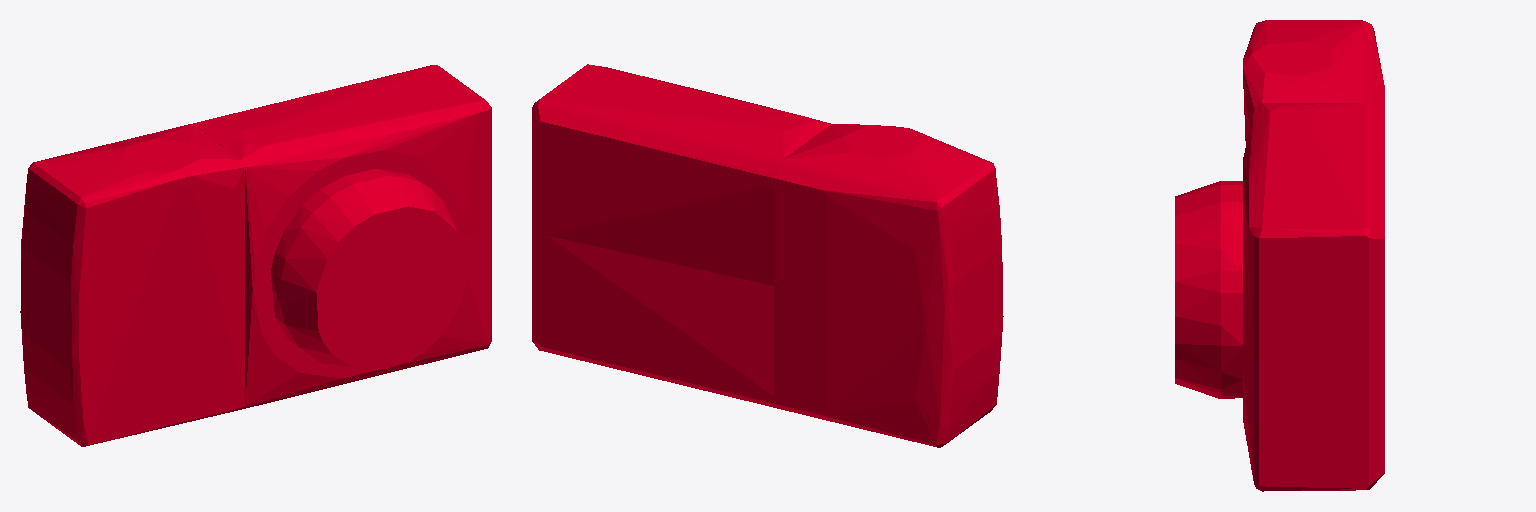
robot.urdf — camera:
<robot name="camera">
	<link name="_name">
		<visual>
			<origin xyz="-0.004941934100832452 0.003306411883695409 0.006593431127655624" rpy="0 0 0" />
			<geometry>
				<mesh filename="camera_vhacd.obj" scale="0.55 0.55 0.55" />
			</geometry>
       		<material name="red">
        		<color rgba="0.9 0 0.2 1.0"/>
      		</material>
		</visual>
		<collision>
			<geometry>
				<mesh filename="camera_vhacd.obj" scale="0.55 0.55 0.55" />
			</geometry>
		<origin xyz="-0.004941934100832452 0.003306411883695409 0.006593431127655624" rpy="0 0 0" /></collision>
		<inertial>
			<mass value="1.0" />
			<inertia ixx="1.0" ixy="0.0" ixz="0.0" iyy="1.0" iyz="0.0" izz="1.0" />
		</inertial>
	</link>
</robot>

--- Facts derived from the render (not from the file) ---
Views: 3 orthographic renders of the robot side by side, from view 1: azimuth 30°, elevation 25°; view 2: azimuth 150°, elevation 25°; view 3: azimuth 270°, elevation 25°.
Model camera with 1 links and 0 joints (none), rooted at _name, posed every joint at zero.
Links seen in each view (by area): view 1: _name; view 2: _name; view 3: _name.
Boxes of the visible links, bbox=[...] form: _name: bbox=[20, 65, 491, 446]; _name: bbox=[532, 64, 1003, 447]; _name: bbox=[1175, 20, 1384, 491].
Bounding box of the posed robot: 0.0719 × 0.0296 × 0.0423 m (x, y, z).
1 mesh visuals loaded from 1 distinct referenced files (1 OBJ).
